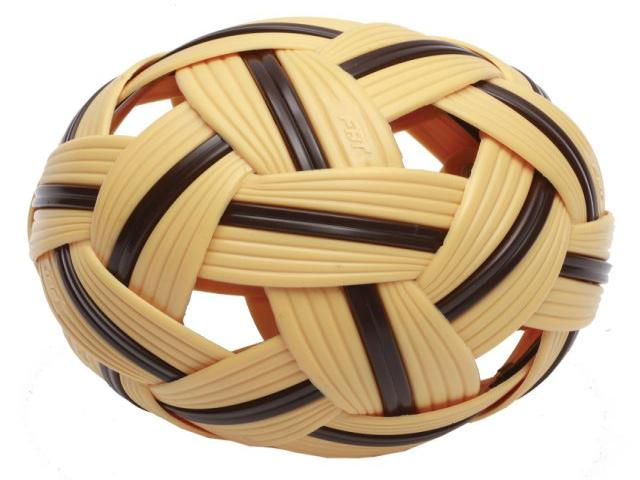round ball: (30, 18, 612, 457)
